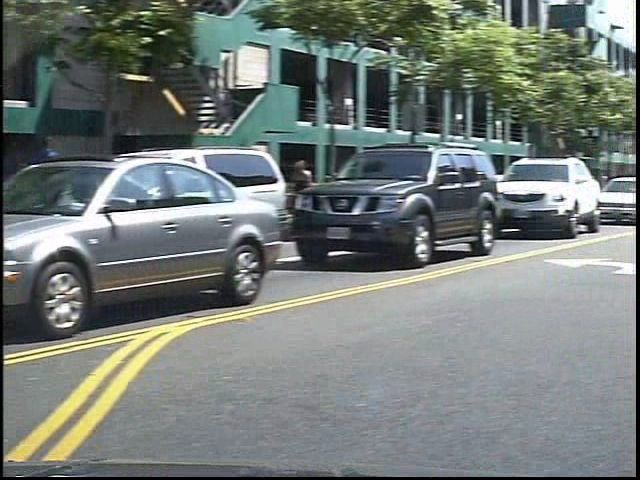person: (37, 132, 88, 263), (302, 155, 332, 231)
